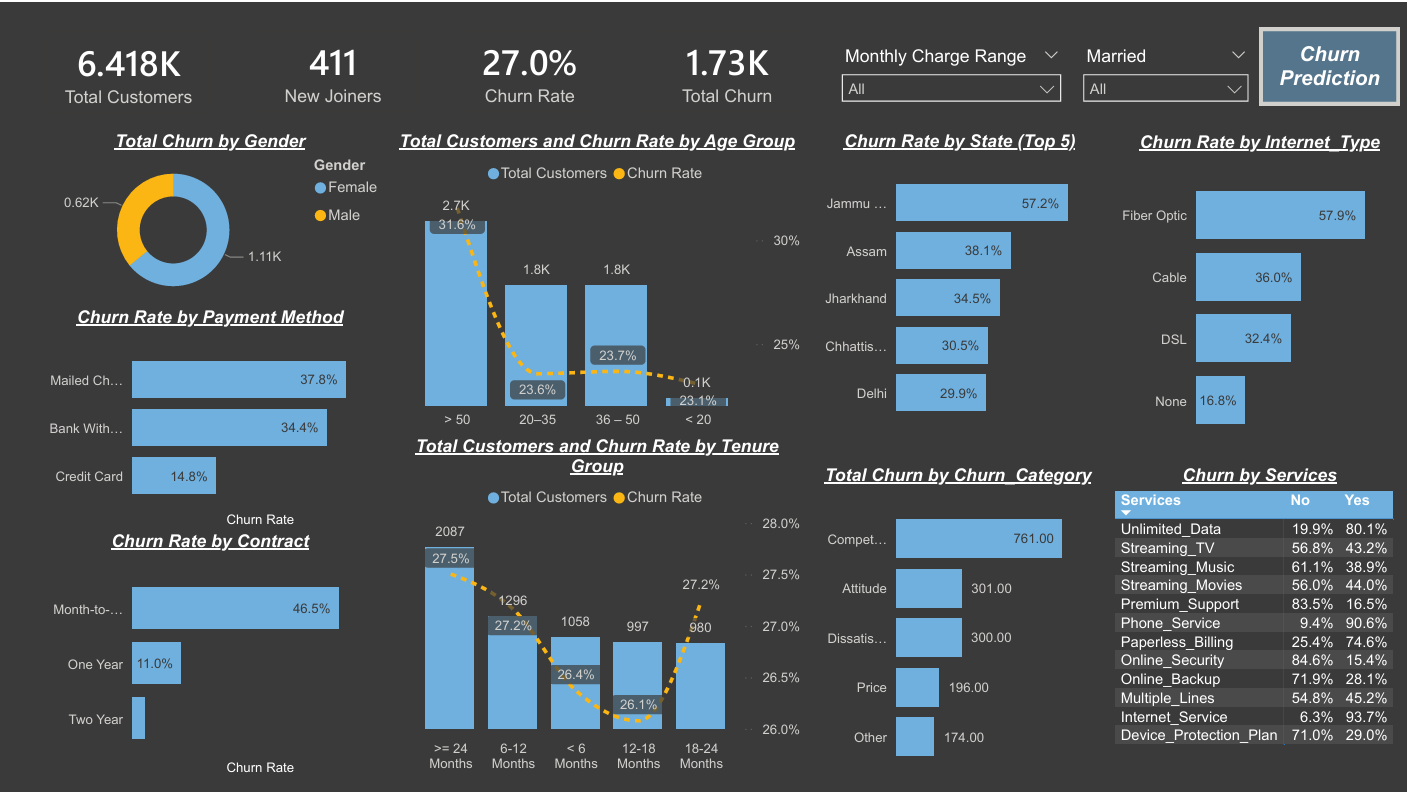

The page's visual inventory and layout, read from the dashboard file:
{"tool":"powerbi","page":{"name":"Churn Analysis","canvas":[1280,720],"ordinal":0},"visuals":[{"type":"cardVisual","fields":{"Data":["Measures (2).Total Customers"]},"box":[26.2,8.8,182.5,108.8],"z":1000},{"type":"cardVisual","fields":{"Data":["Measures (2).New Joiners"]},"box":[208.8,7.5,187.5,108.8],"z":2000},{"type":"cardVisual","fields":{"Data":["Measures (2).Churn Rate"]},"box":[396.2,7.5,170,108.8],"z":3000},{"type":"cardVisual","fields":{"Data":["Measures (2).Total Churn"]},"box":[566.2,7.5,188.8,108.8],"z":4000},{"type":"donutChart","fields":{"Category":["prod_Churn.Gender"],"Y":["Measures (2).Total Churn"]},"box":[26.4,116.9,331.3,160.5],"z":5000},{"type":"lineStackedColumnComboChart","fields":{"Category":["mapping_AgeGrp.Age Group "],"Y":["Measures (2).Total Customers"],"Y2":["Measures (2).Churn Rate"]},"box":[353.1,116.9,379.5,277.4],"z":6000},{"type":"clusteredBarChart","title":"Churn Rate by Payment Method","fields":{"Category":["prod_Churn.Payment_Method"],"Y":["Measures (2).Churn Rate"]},"box":[26.4,277.4,331.3,202.9],"z":7000},{"type":"clusteredBarChart","fields":{"Y":["Measures (2).Churn Rate"],"Category":["prod_Churn.Contract"]},"box":[26.4,480.4,331.3,224.7],"z":8000},{"type":"lineStackedColumnComboChart","fields":{"Y":["Measures (2).Total Customers"],"Y2":["Measures (2).Churn Rate"],"Category":["mapping_TenureGrp.Tenure Group "]},"box":[353.1,394.4,379.5,310.7],"z":9000},{"type":"clusteredBarChart","title":"Churn Rate by State (Top 5)","fields":{"Y":["Measures (2).Churn Rate"],"Category":["prod_Churn.State"]},"box":[732.6,116.9,278.6,277.4],"z":10000},{"type":"clusteredBarChart","fields":{"Category":["prod_Churn.Churn_Category"],"Y":["Measures (2).Total Churn"]},"box":[732.6,419.6,275.1,287.8],"z":11000},{"type":"pivotTable","title":"Churn by Services","fields":{"Rows":["prod_Services.Services"],"Columns":["prod_Services.Status"],"Values":["Sum(prod_Services.Churn Status)"]},"box":[1007.5,420,272.5,278.8],"z":12000},{"type":"clusteredBarChart","fields":{"Y":["Measures (2).Churn Rate"],"Category":["prod_Churn.Internet_Type"]},"box":[1007.5,117.5,272.5,293.8],"z":13000},{"type":"slicer","fields":{"Values":["prod_Churn.Monthly Charge Status"]},"box":[755,35,218.8,57.5],"z":14000},{"type":"slicer","fields":{"Values":["prod_Churn.Married"]},"box":[973.8,35,170,57.5],"z":15000},{"type":"actionButton","box":[1143.8,22.5,127.5,70],"z":15001}]}

Visuals, with their boxes in screenshot pixels (x1, y1, x2, y2), scaled from the page's 1280x720 canvas onto the 1407x792 screenshot:
cardVisual - Measures (2).Total Customers: bbox=(29, 10, 229, 129)
cardVisual - Measures (2).New Joiners: bbox=(230, 8, 436, 128)
cardVisual - Measures (2).Churn Rate: bbox=(436, 8, 622, 128)
cardVisual - Measures (2).Total Churn: bbox=(622, 8, 830, 128)
donutChart - prod_Churn.Gender x Measures (2).Total Churn: bbox=(29, 129, 393, 305)
lineStackedColumnComboChart - mapping_AgeGrp.Age Group  x Measures (2).Total Customers: bbox=(388, 129, 805, 434)
"Churn Rate by Payment Method" clusteredBarChart: bbox=(29, 305, 393, 528)
clusteredBarChart - Measures (2).Churn Rate x prod_Churn.Contract: bbox=(29, 528, 393, 776)
lineStackedColumnComboChart - Measures (2).Total Customers x Measures (2).Churn Rate: bbox=(388, 434, 805, 776)
"Churn Rate by State (Top 5)" clusteredBarChart: bbox=(805, 129, 1112, 434)
clusteredBarChart - prod_Churn.Churn_Category x Measures (2).Total Churn: bbox=(805, 462, 1108, 778)
"Churn by Services" pivotTable: bbox=(1107, 462, 1406, 769)
clusteredBarChart - Measures (2).Churn Rate x prod_Churn.Internet_Type: bbox=(1107, 129, 1406, 452)
slicer - prod_Churn.Monthly Charge Status: bbox=(830, 38, 1070, 102)
slicer - prod_Churn.Married: bbox=(1070, 38, 1257, 102)
actionButton: bbox=(1257, 25, 1397, 102)
